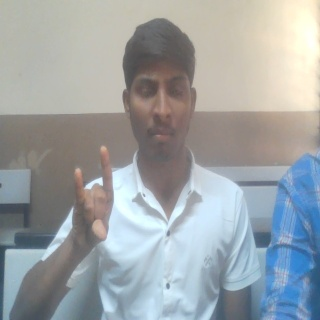Face: (119, 17, 202, 165)
I Love You: (68, 143, 117, 256)
